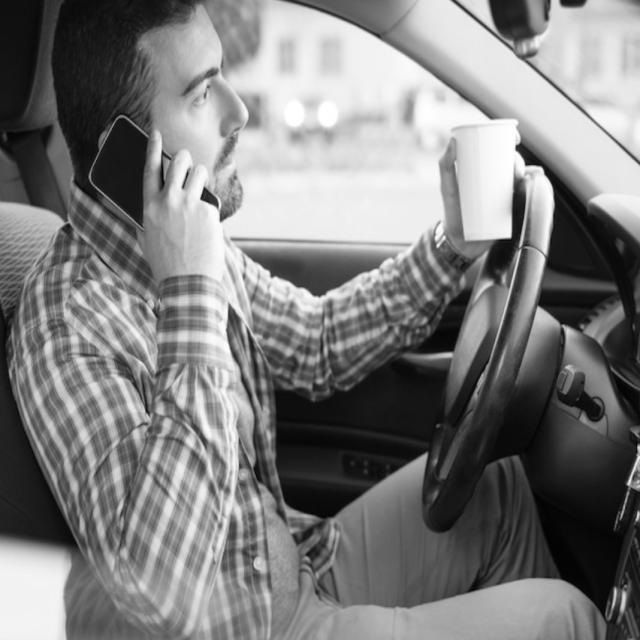Drinking: (436, 105, 541, 275)
Phone: (76, 91, 264, 261)
